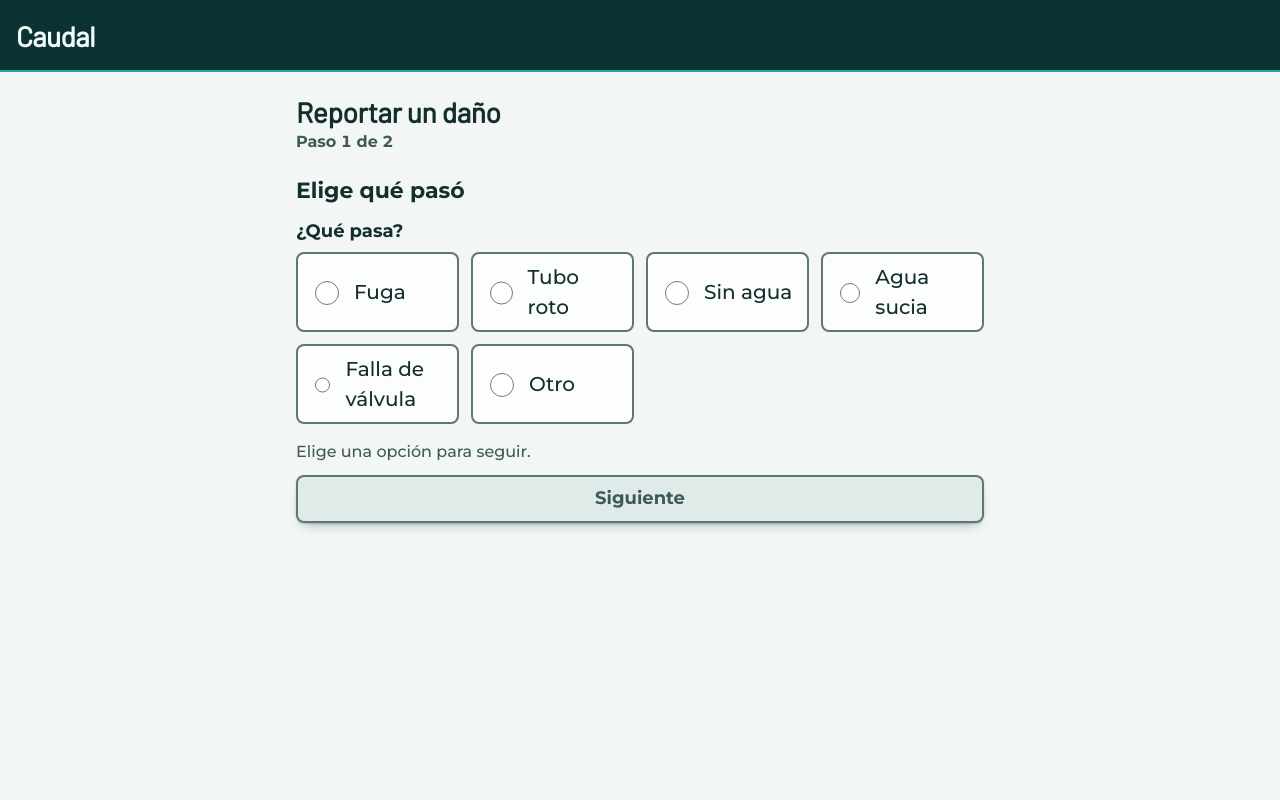
DamageReportPage (S05, without login) › keeps the send button off until the description is complete, and says why
This screenshot has width=1280, height=800.
Click the radio button labelled "Fuga" at (327, 293), box [315, 281, 339, 305]
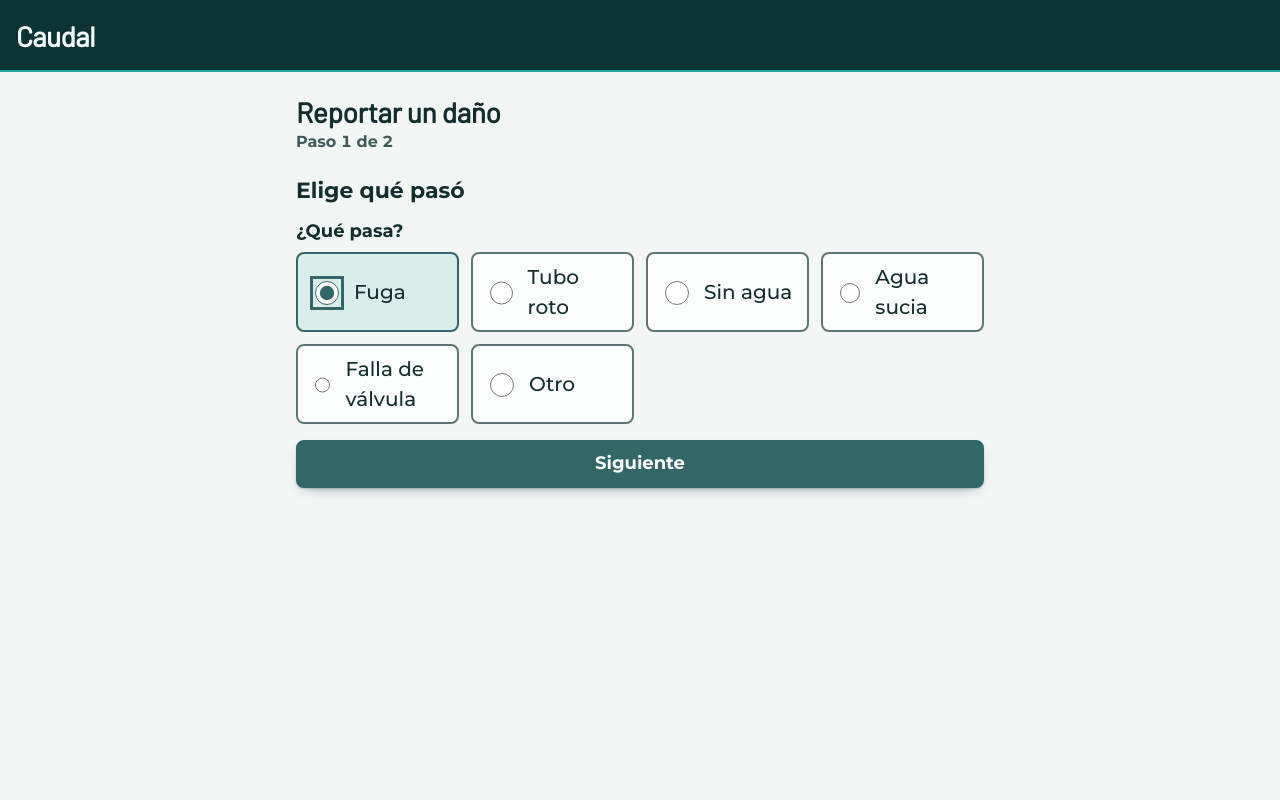
Click the button "Siguiente" at (640, 464), box [296, 440, 984, 488]
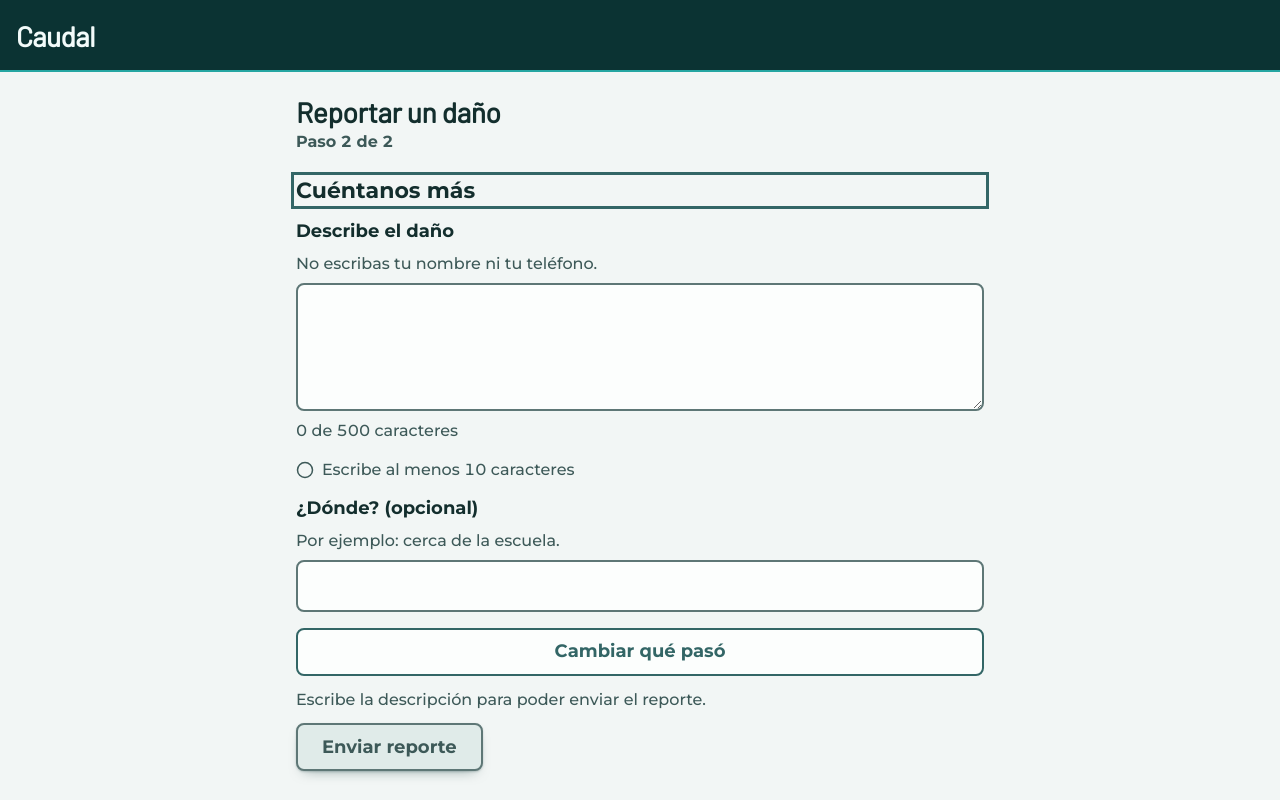
Result: the button "Enviar reporte" is disabled at [296, 723, 483, 771]
Result: the text "Escribe la descripción para poder enviar el reporte." is shown at [296, 690, 706, 709]
Type "Hay agua saliendo del tubo de la calle principal." into the text box labelled "Describe el daño" at (640, 347), box [296, 283, 984, 411]
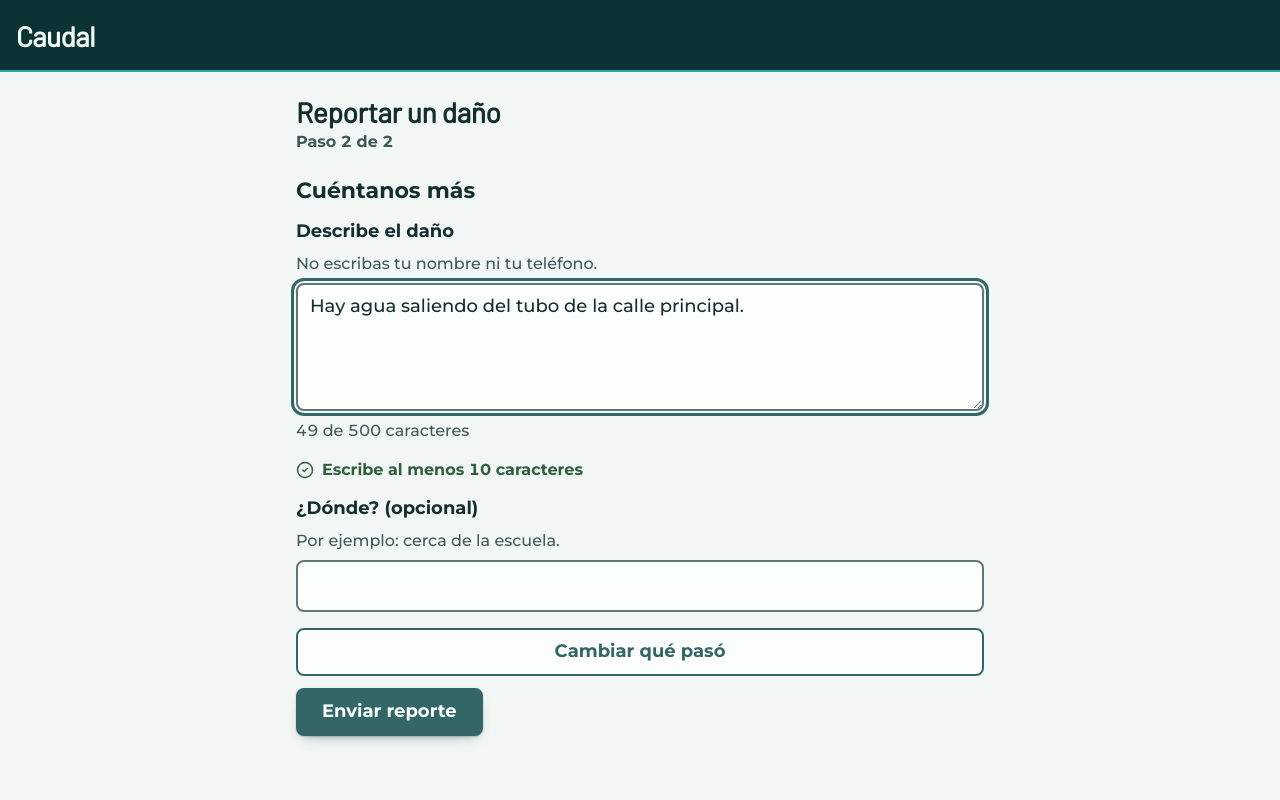
Result: the button "Enviar reporte" is enabled at [296, 688, 483, 736]
Result: the text "Escribe la descripción para poder enviar el reporte." is gone
